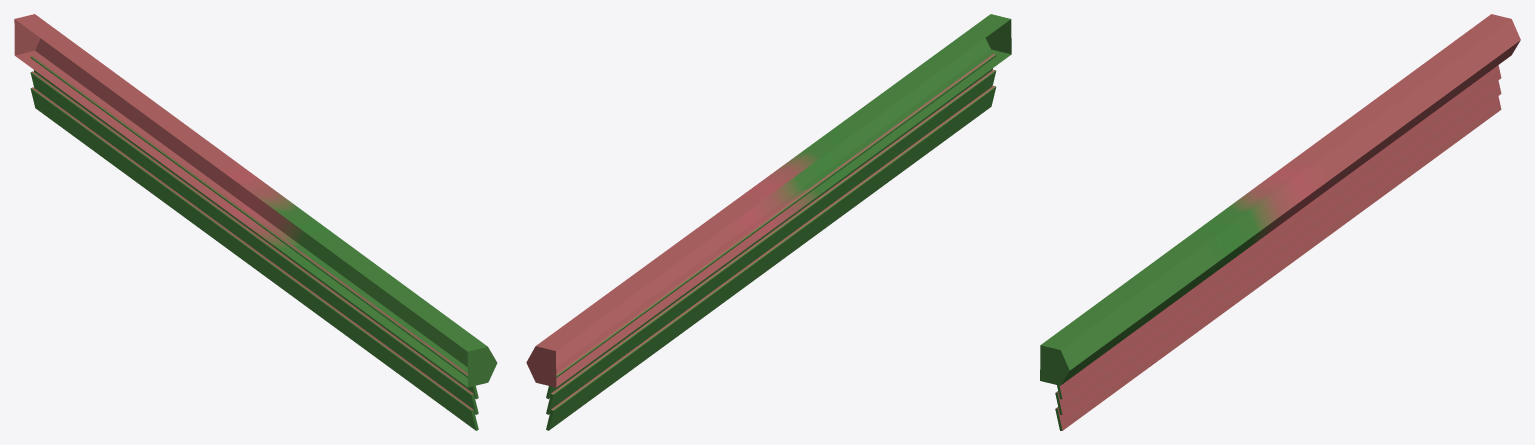
Rendered from Gym_Blinds.fbx.
3 renders of one model, left to right at view 1: azimuth 30°, elevation 25°; view 2: azimuth 150°, elevation 25°; view 3: azimuth 330°, elevation 25°, orthographic.
Visible parts, largest first — view 1: Gym_Blinds; view 2: Gym_Blinds; view 3: Gym_Blinds.
Boxes of the visible parts, box(x1,y1,x2,y2) form: Gym_Blinds: box(14, 14, 497, 430); Gym_Blinds: box(526, 14, 1011, 430); Gym_Blinds: box(1040, 14, 1520, 430).
Bounding box in the file's own units: 14 × 39.53 × 370.
